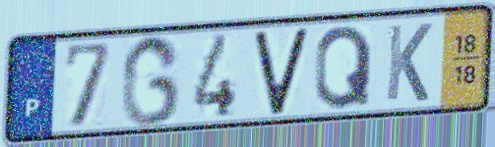4: (190, 32, 239, 120)
7: (64, 39, 114, 130)
G: (117, 32, 183, 129)
K: (383, 21, 435, 104)
Q: (313, 23, 375, 113)
V: (251, 24, 312, 118)
